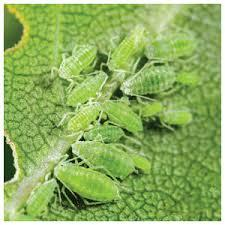Insects: (48, 153, 134, 209), (69, 136, 151, 181), (86, 88, 150, 132), (116, 63, 190, 98), (141, 20, 205, 60), (49, 38, 101, 85), (105, 27, 150, 75), (61, 68, 107, 109), (53, 99, 111, 131), (25, 173, 62, 219), (159, 105, 199, 131)
